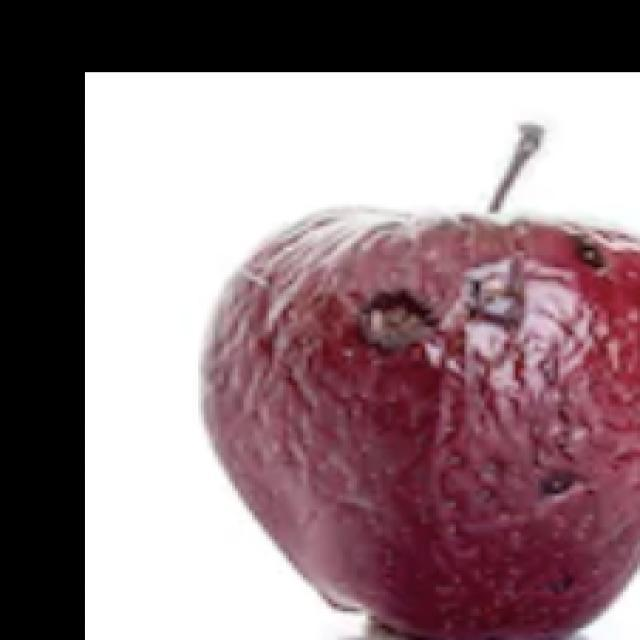Rotten: (205, 191, 640, 640)
